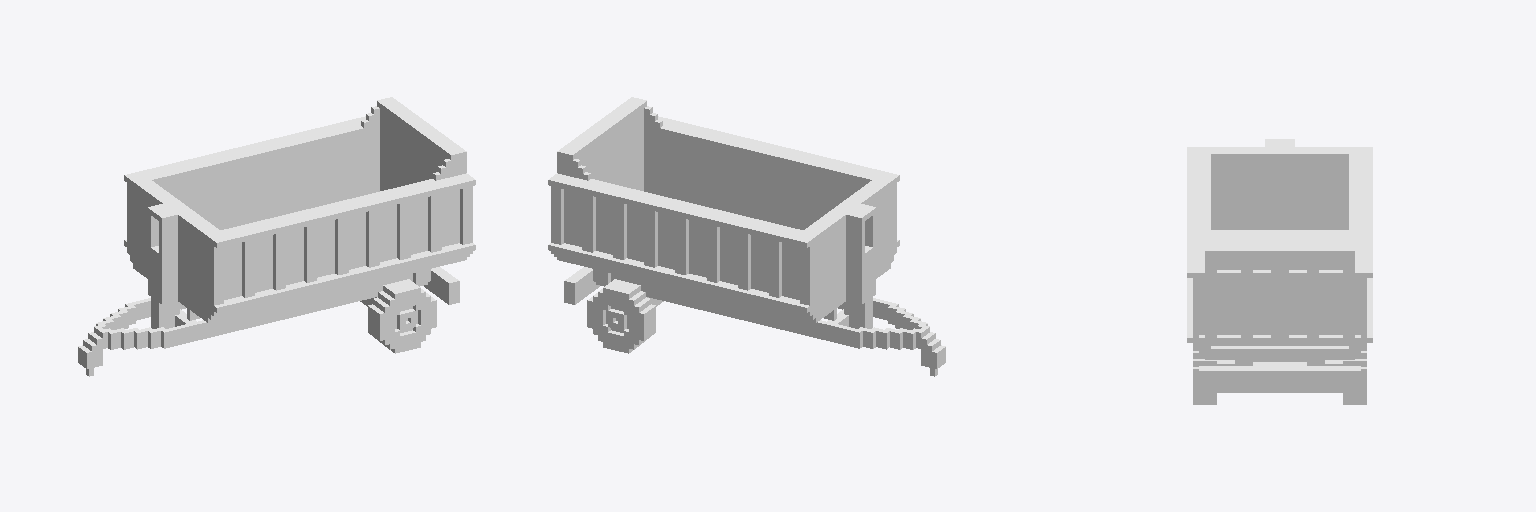
The model's file is Trailer_Empty.obj.
3 renders of one model, left to right at view 1: azimuth 30°, elevation 25°; view 2: azimuth 150°, elevation 25°; view 3: azimuth 270°, elevation 25°, orthographic.
Parts seen in each view (by area): view 1: Trailer_Empty; view 2: Trailer_Empty; view 3: Trailer_Empty.
Boxes of the visible parts, x1,y1,x2,y2 form: Trailer_Empty: [78, 97, 475, 376]; Trailer_Empty: [548, 97, 945, 376]; Trailer_Empty: [1187, 139, 1372, 404].
Bounding box in the file's own units: 67 × 33 × 31.